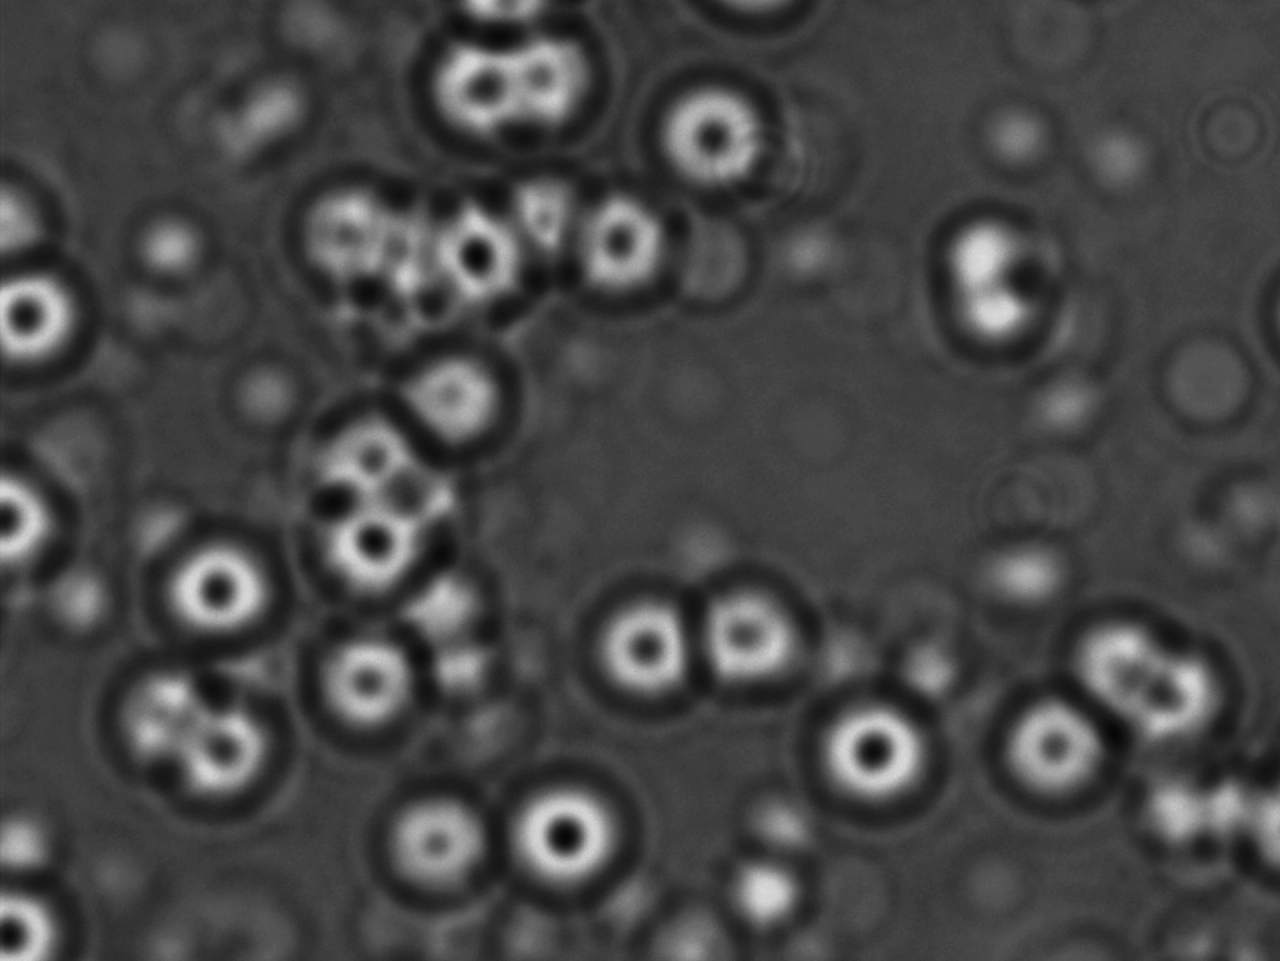depth:32: (983, 673, 1126, 813), (647, 72, 787, 211), (796, 678, 933, 821), (579, 585, 711, 717), (561, 189, 685, 322), (151, 523, 279, 651), (312, 477, 440, 603), (695, 567, 820, 692), (502, 770, 629, 891), (292, 617, 417, 739), (420, 201, 542, 322)
